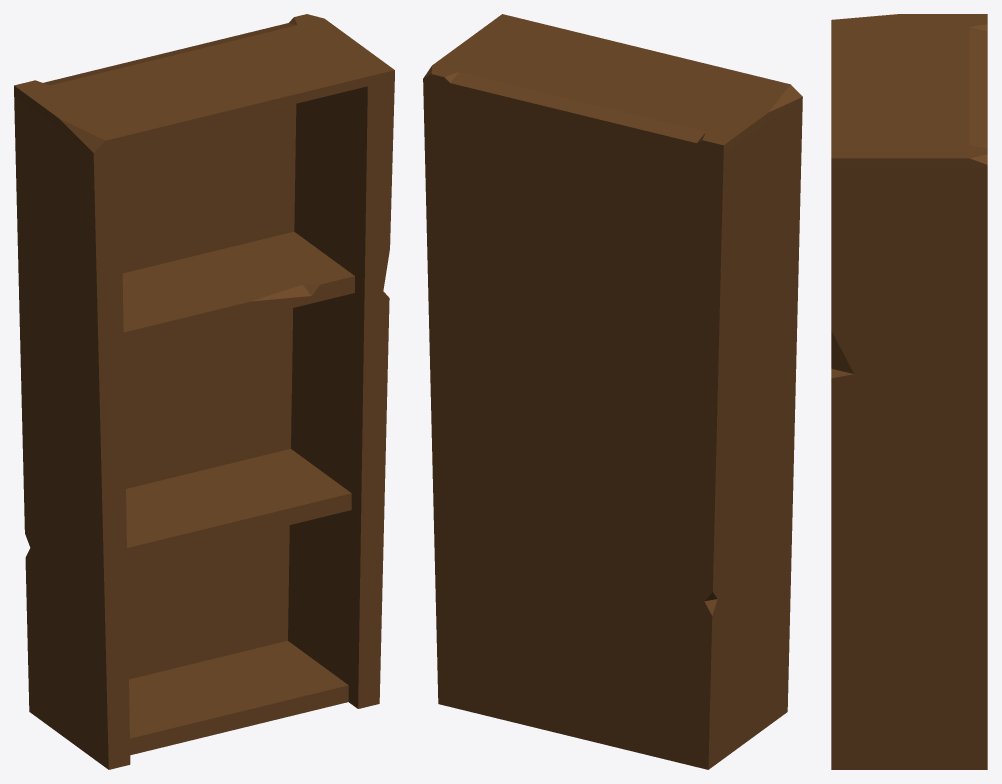
Rendered from Shelf_1.fbx.
3 renders of one model, left to right at view 1: azimuth 30°, elevation 25°; view 2: azimuth 150°, elevation 25°; view 3: azimuth 270°, elevation 25°, orthographic.
Parts seen in each view (by area): view 1: Cube.013; view 2: Cube.013; view 3: Cube.013.
Boxes of the visible parts, left/top/right/bottom form: Cube.013: left=14, top=14, right=394, bottom=769; Cube.013: left=423, top=14, right=802, bottom=769; Cube.013: left=831, top=14, right=987, bottom=769.
Size of the model in its own units: 74.81 by 149 by 34.17.
